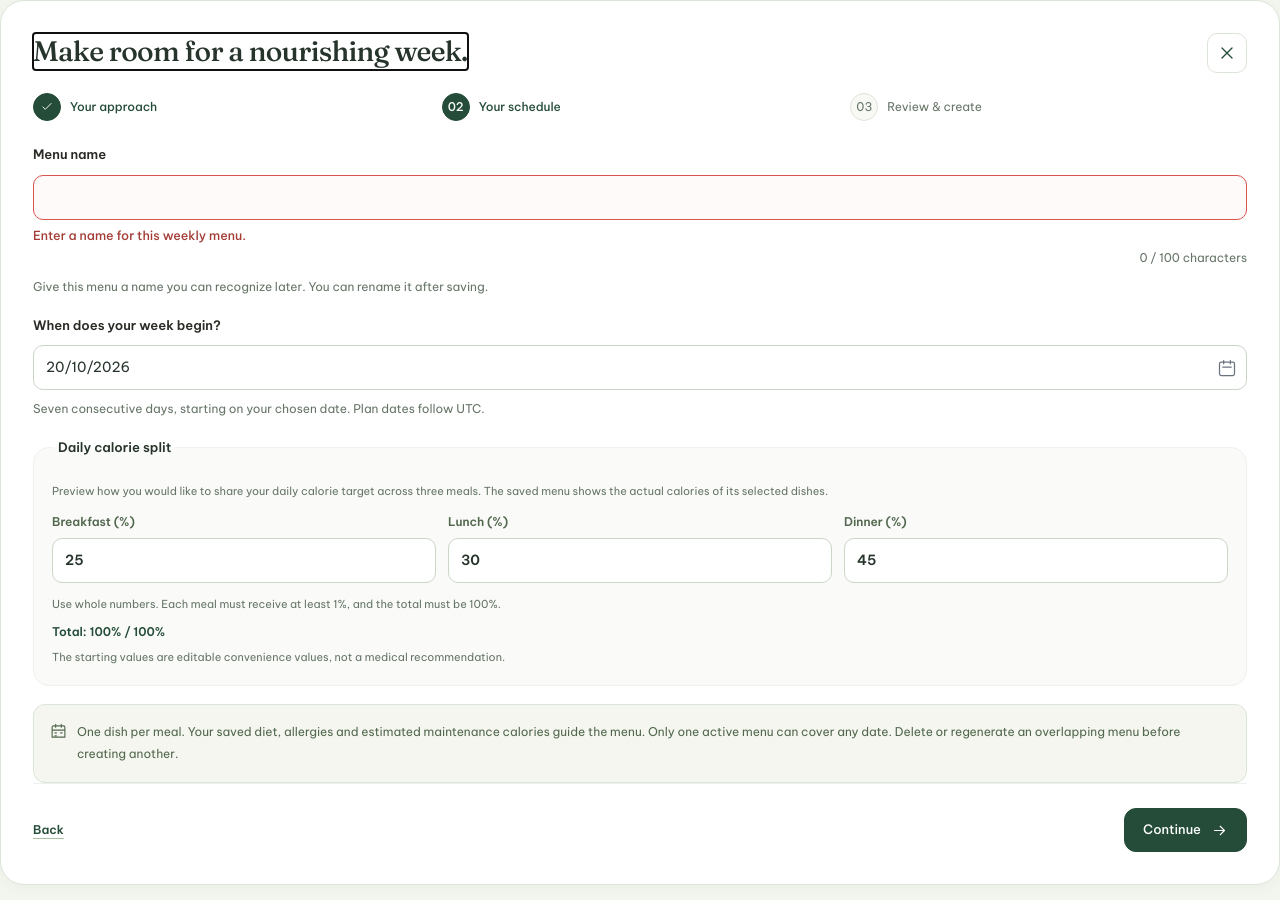
Scenario: PlanSetupFlow - Validation & TDEE UX (Phase 4) › 1. required fields show inline errors when left empty or blank
This screenshot has width=1280, height=900.
Earlier steps of the test are not shown.
Submit the form
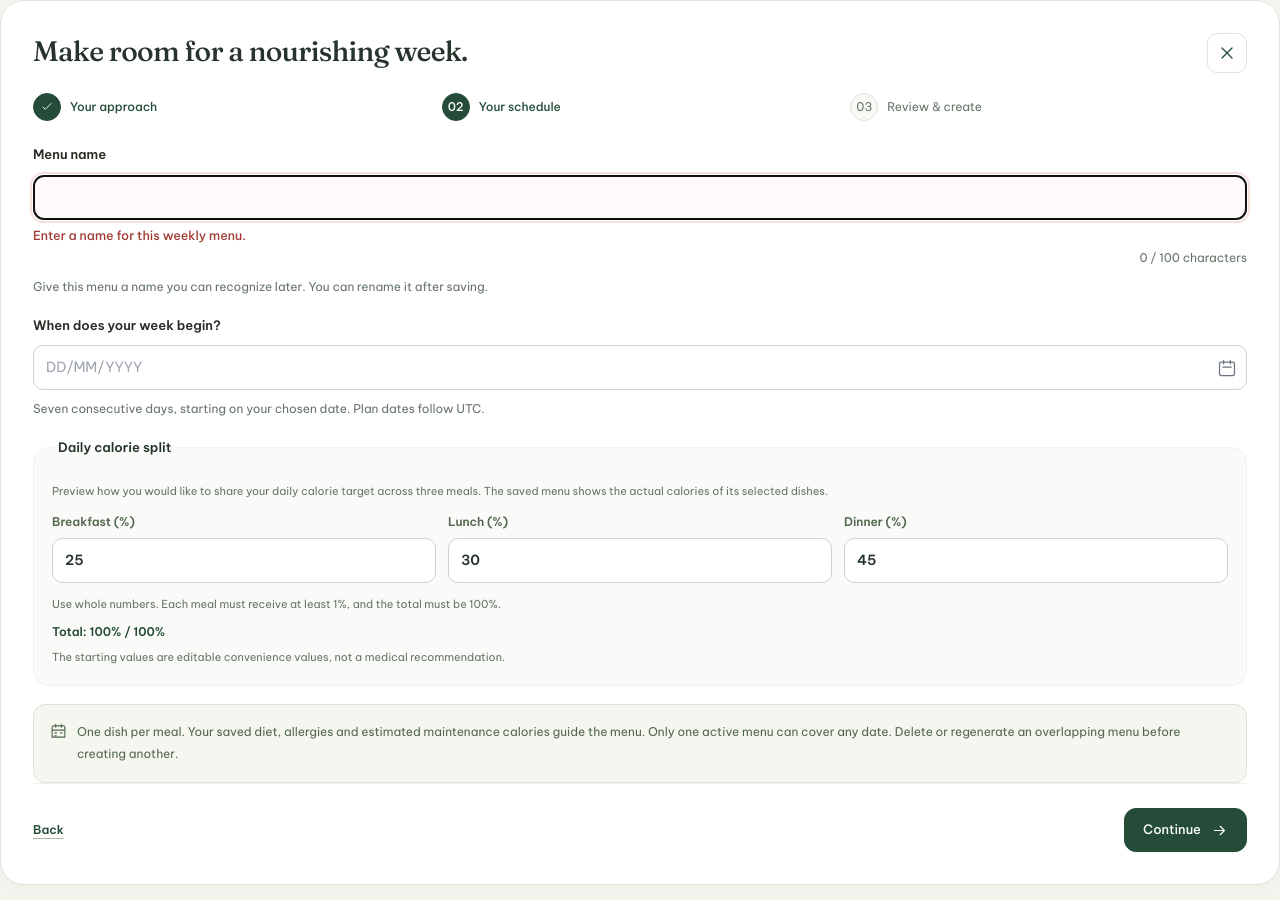
Expected: the message with id "meal-plan-name-error" reads "Enter a name for this weekly menu.", [33, 226, 246, 242]
Clear the field with id "meal-plan-start" at (640,368), box [33, 345, 1247, 390]
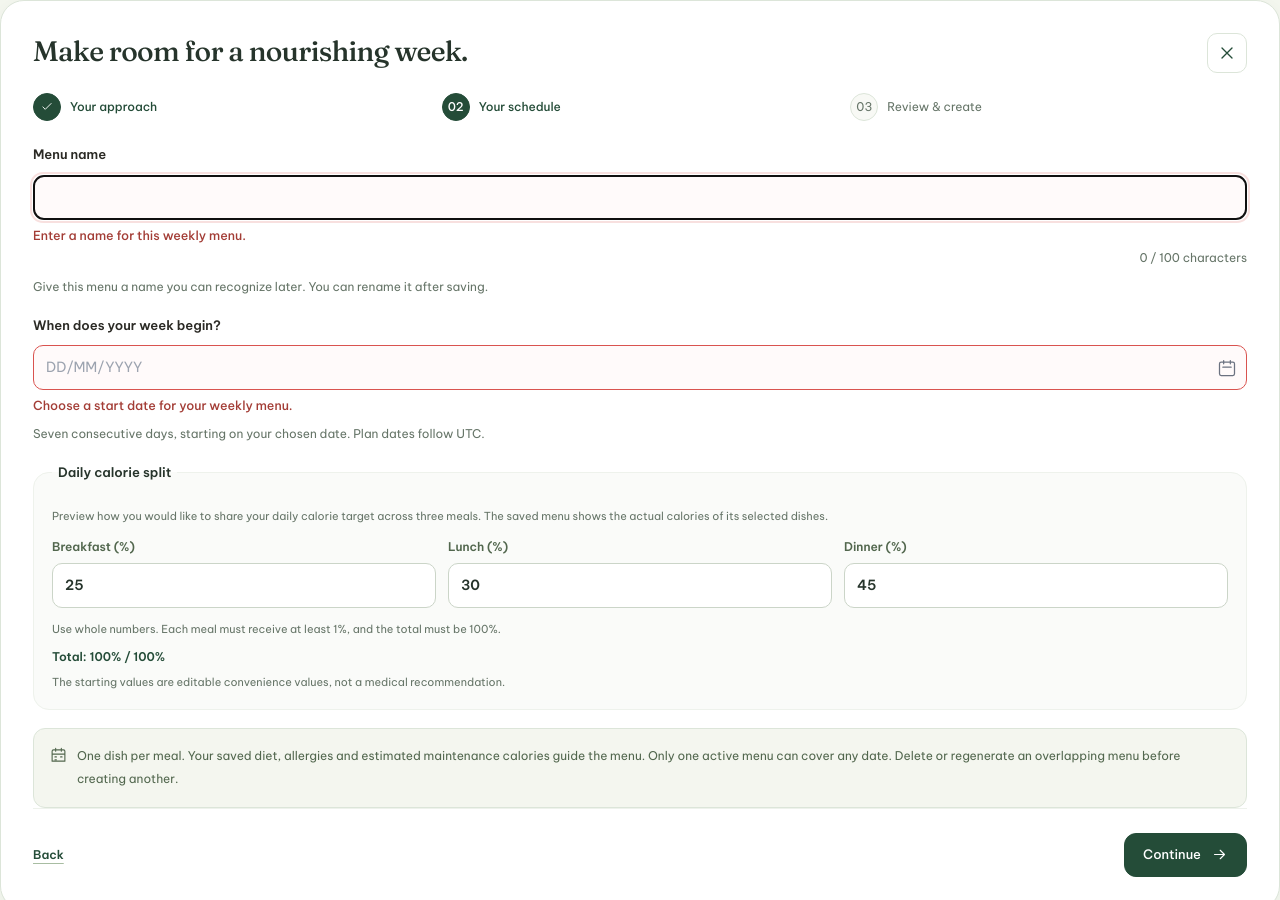
Submit the form
Expected: the message with id "start-date-error" reads "Choose a start date for your weekly menu.", [33, 397, 293, 413]
Click the button "Back".
click(48, 855)  # box [33, 839, 64, 871]
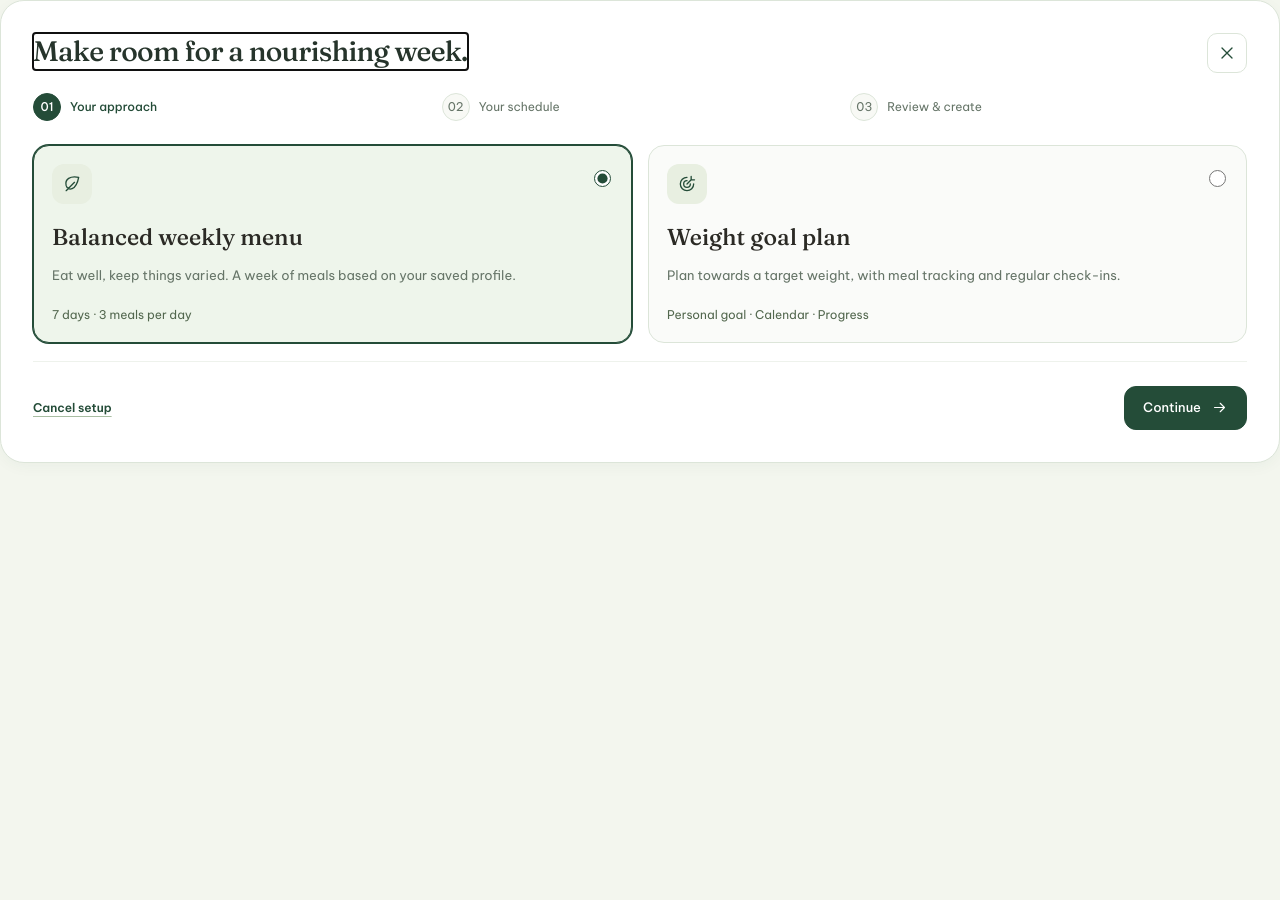
Click the 2nd radio button.
click(1218, 178)  # box [1209, 170, 1226, 187]
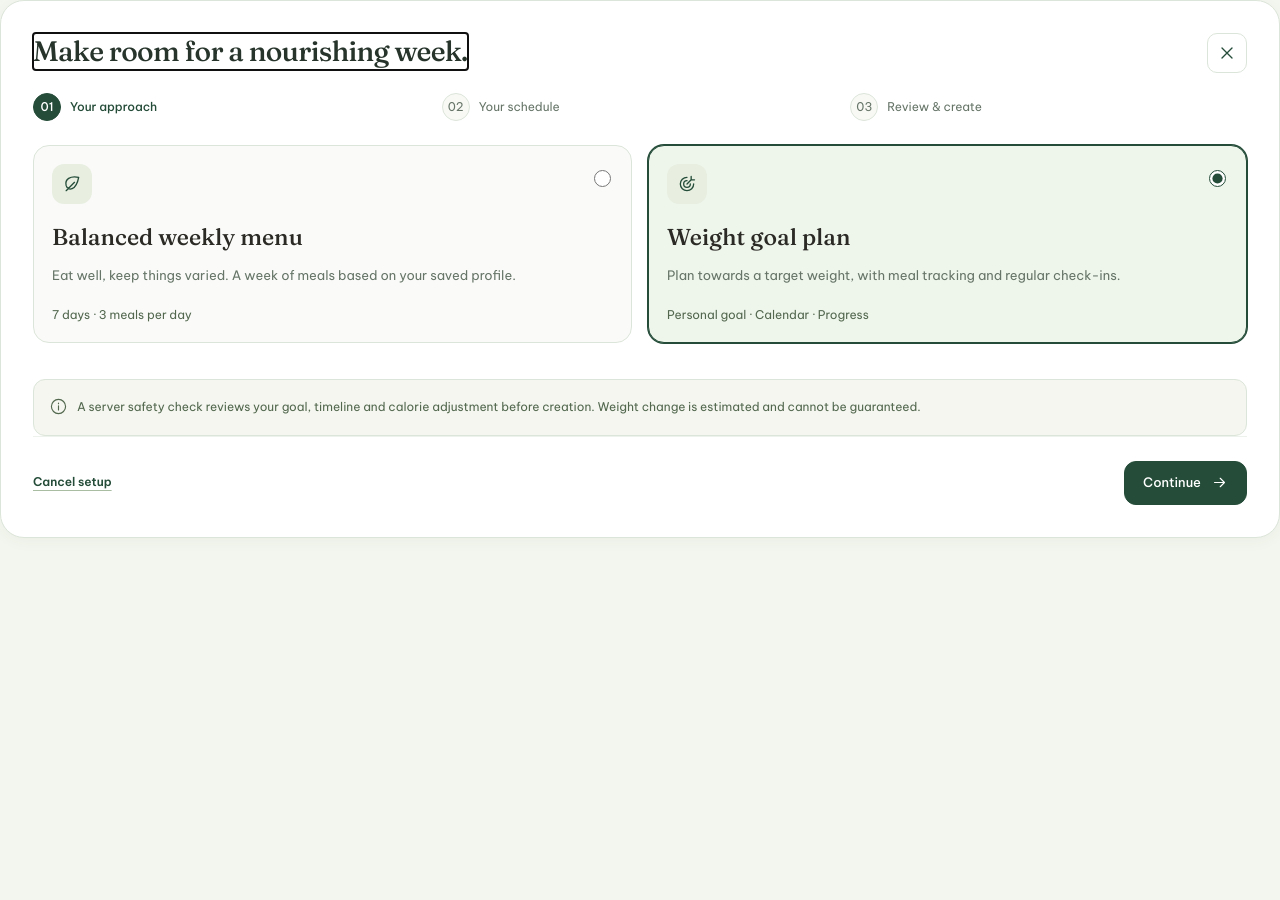
Submit the form, box [33, 145, 1247, 504]
(page scrolled)
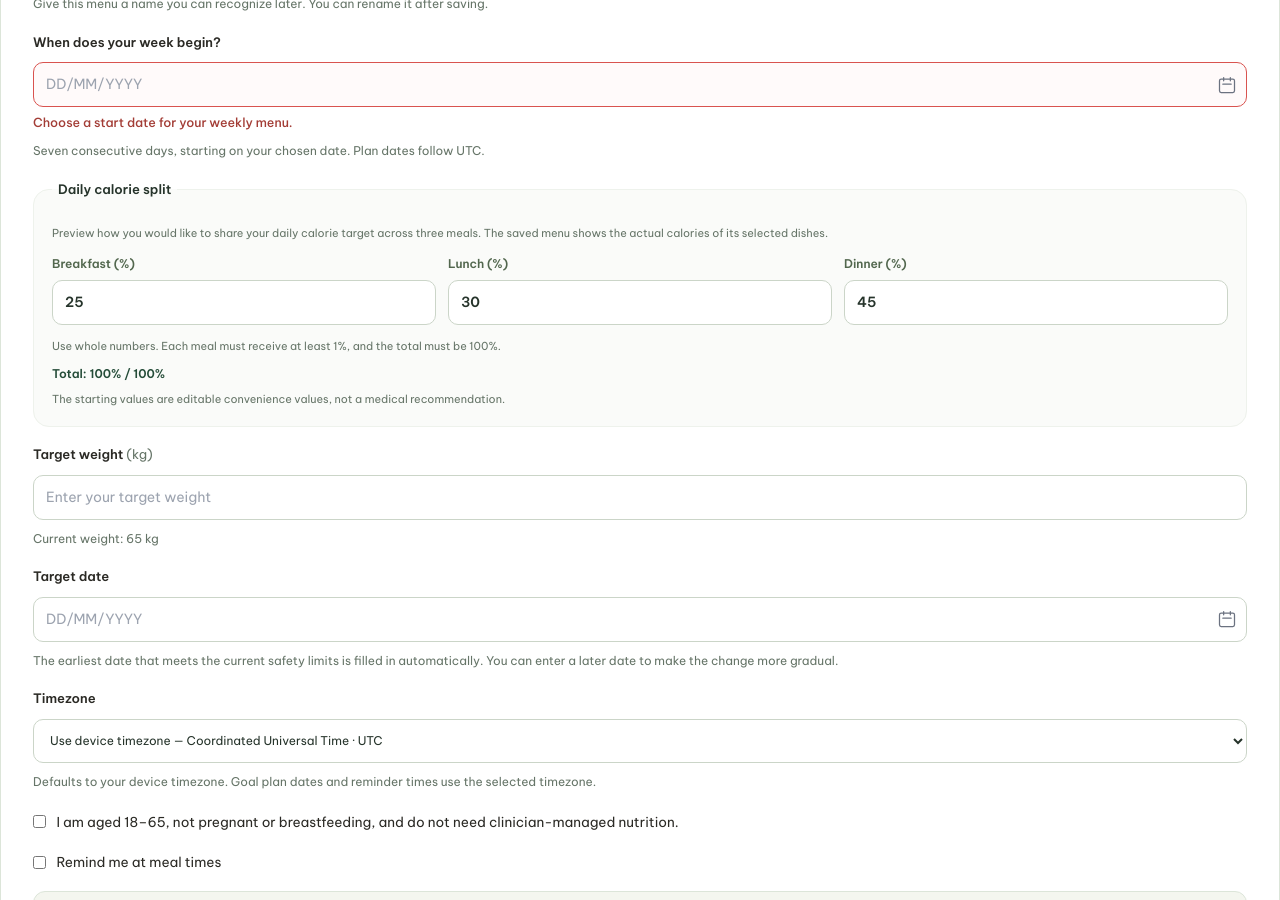
Submit the form
(page scrolled)
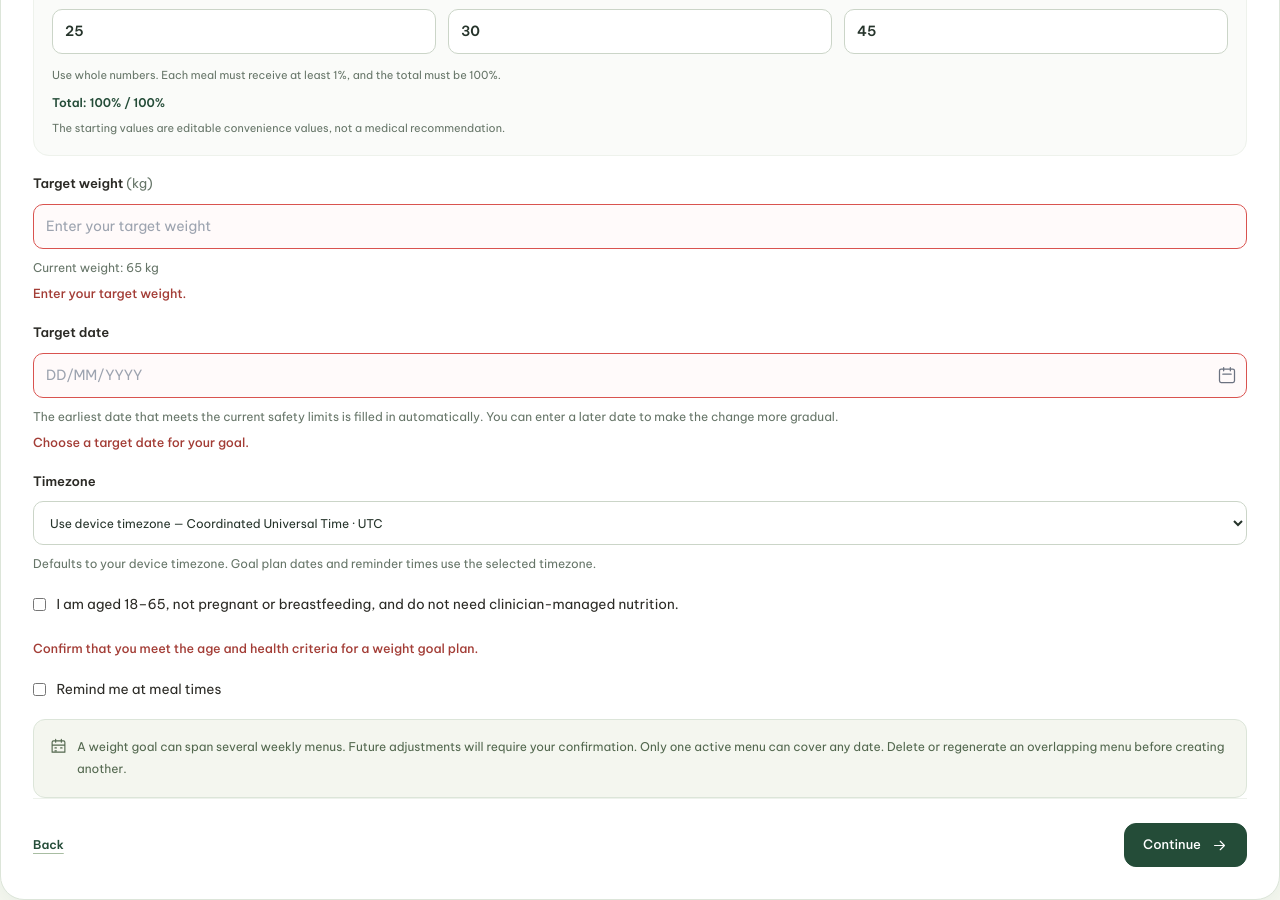
Expected: the message with id "goal-weight-error" reads "Enter your target weight.", [33, 285, 186, 301]
Expected: the message with id "goal-eligibility-error" reads "Confirm that you meet the age and health criteria for a weight goal plan.", [33, 640, 478, 656]
